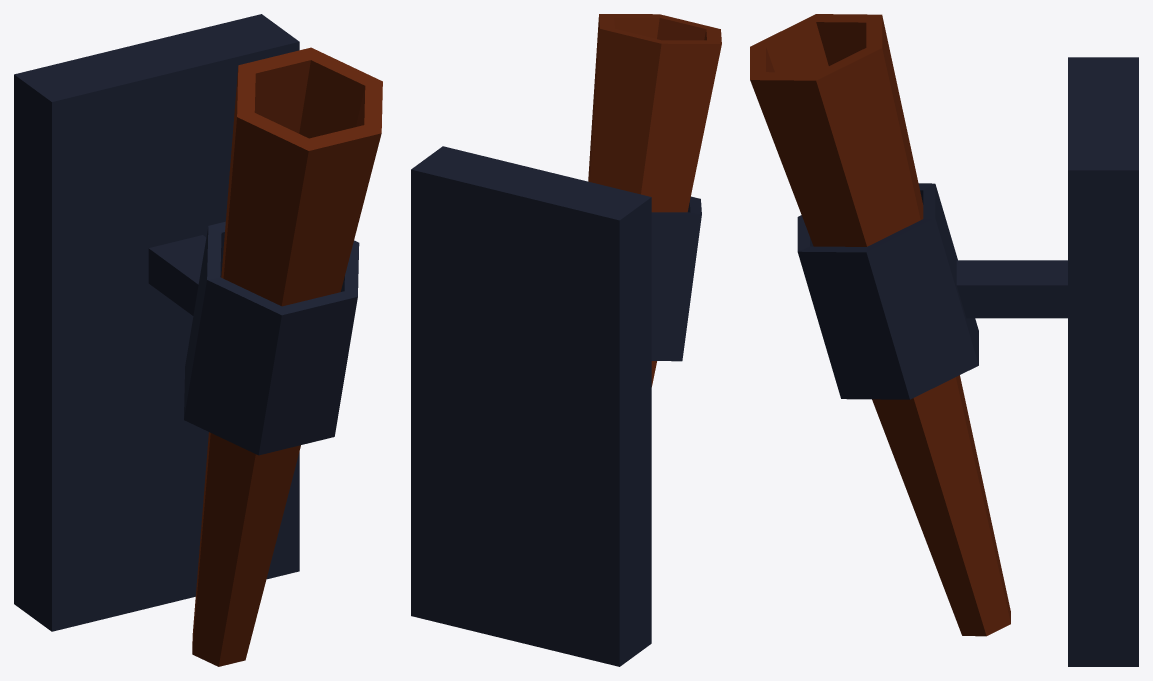
File: Prop_Torch.obj
3 renders of one model, left to right at view 1: azimuth 30°, elevation 25°; view 2: azimuth 150°, elevation 25°; view 3: azimuth 270°, elevation 25°, orthographic. The views are drawn at different scales.
Parts seen in each view (by area): view 1: EXPORT_Prop_Torch; view 2: EXPORT_Prop_Torch; view 3: EXPORT_Prop_Torch.
Part boxes in pixels (x1,y1,x2,y2): EXPORT_Prop_Torch: (14, 14, 382, 666); EXPORT_Prop_Torch: (411, 14, 721, 666); EXPORT_Prop_Torch: (750, 14, 1138, 666).
Bounding box in the file's own units: 0.2299 × 0.5664 × 0.3334.
